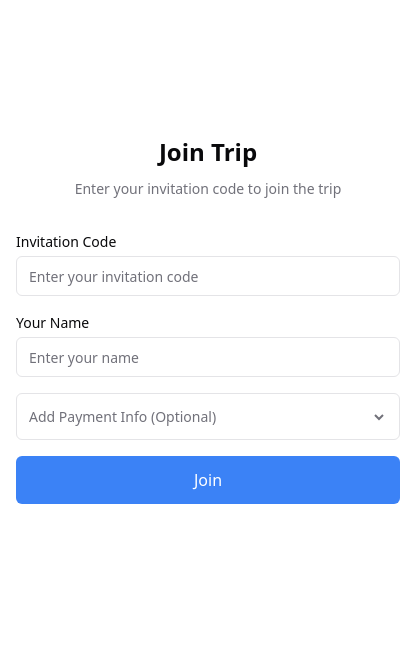
Test: JoinPage › payment handles › should render optional payment handle inputs when expanded
This screenshot has width=417, height=649.
# Expand the payment handles section
Click the button "Add Payment Info (Optional)". click: [208, 416]
box: [16,393,400,440]
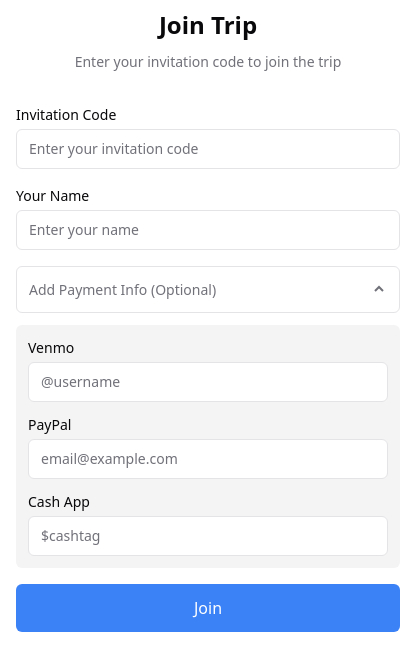
Expected: the field labelled "Venmo" is shown, [28,362,388,402]
Expected: the field labelled "PayPal" is shown, [28,438,388,478]
